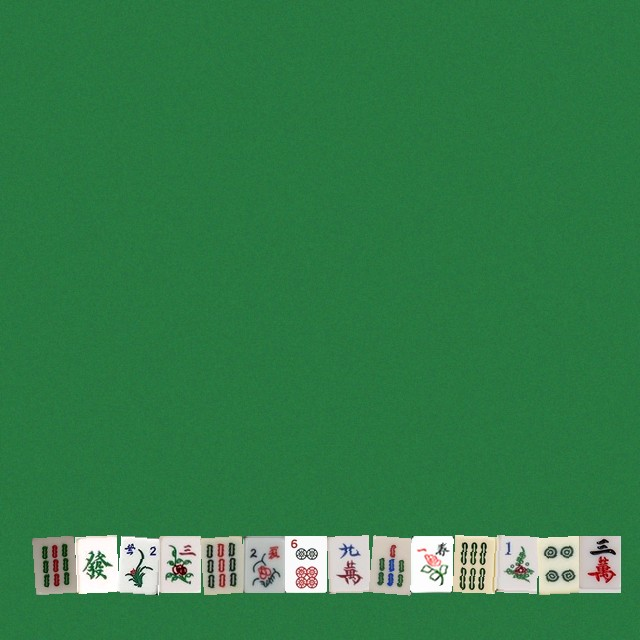tile: (32, 535, 74, 592), (74, 535, 116, 592), (116, 535, 158, 592), (158, 535, 200, 592), (200, 535, 242, 592), (242, 535, 284, 592), (284, 535, 326, 592), (326, 535, 368, 592), (368, 535, 410, 592), (410, 535, 452, 592), (452, 535, 494, 592), (494, 535, 536, 592), (536, 535, 578, 592), (578, 535, 620, 592)
